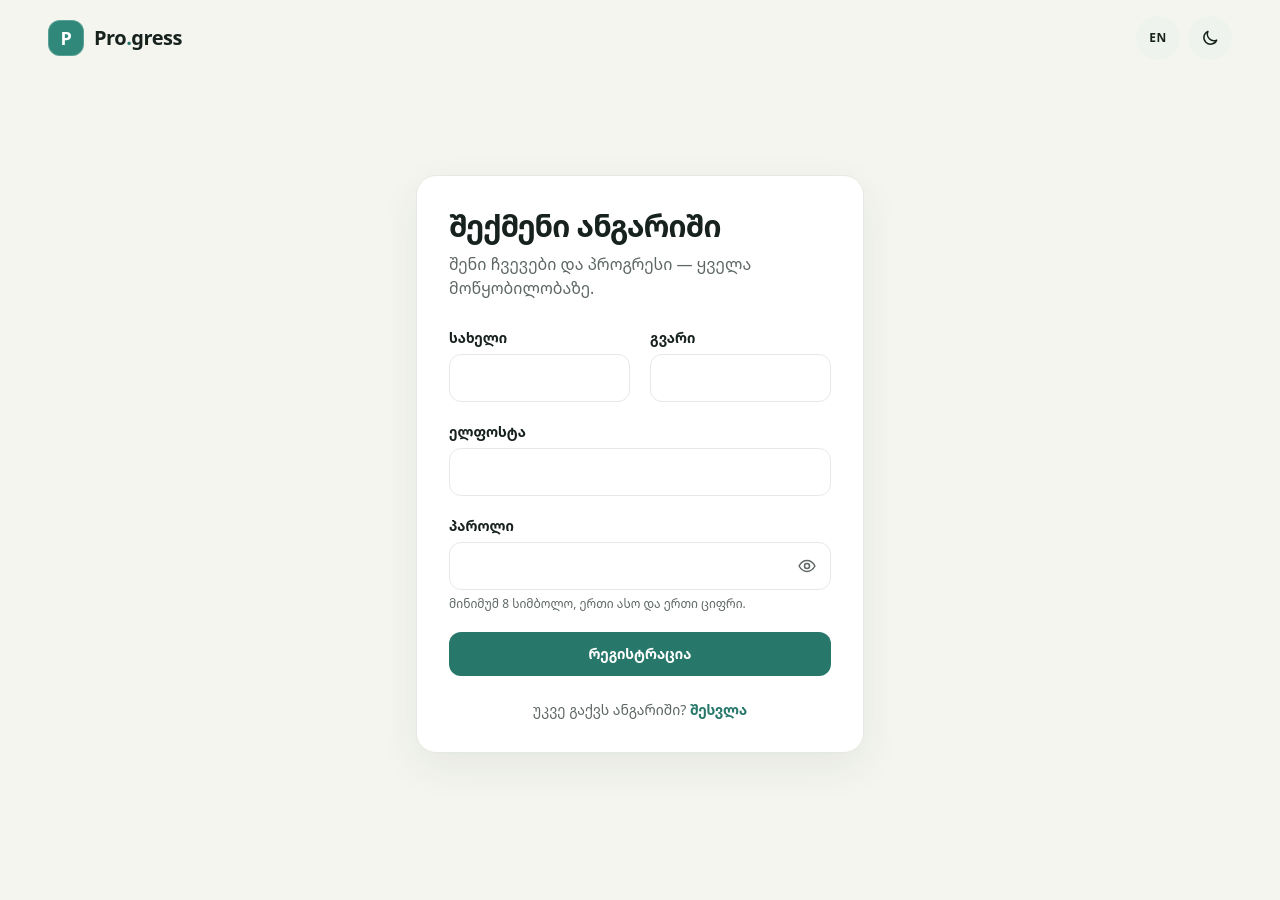
registration (US-1) › points to sign-in when the email is taken
Expected: the heading "შექმენი ანგარიში" is shown, left=449, top=205, right=721, bottom=246
Type "A" into the field labelled "სახელი" at (540, 378), box left=449, top=354, right=630, bottom=402
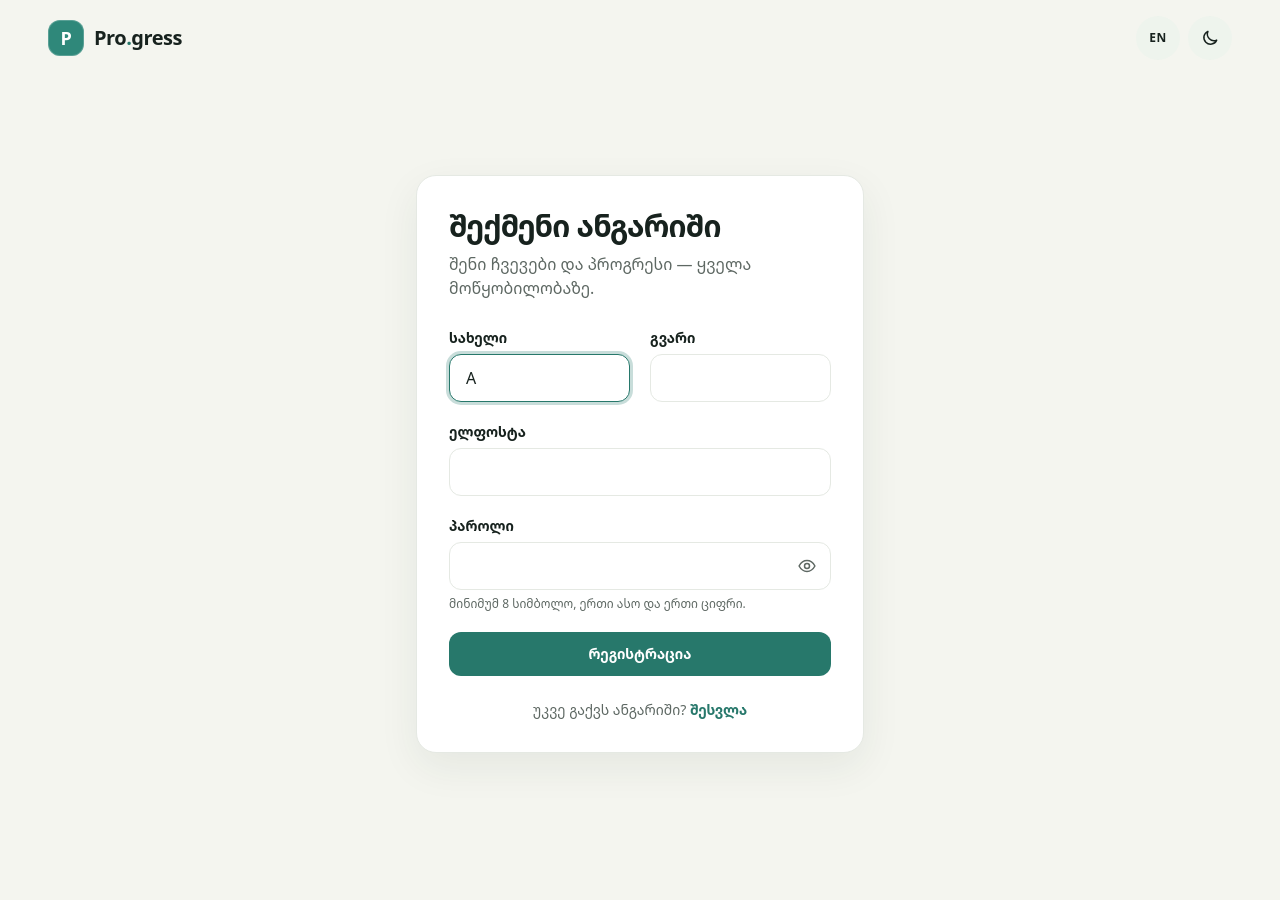
Type "B" into the field labelled "გვარი" at (740, 378), box left=650, top=354, right=831, bottom=402
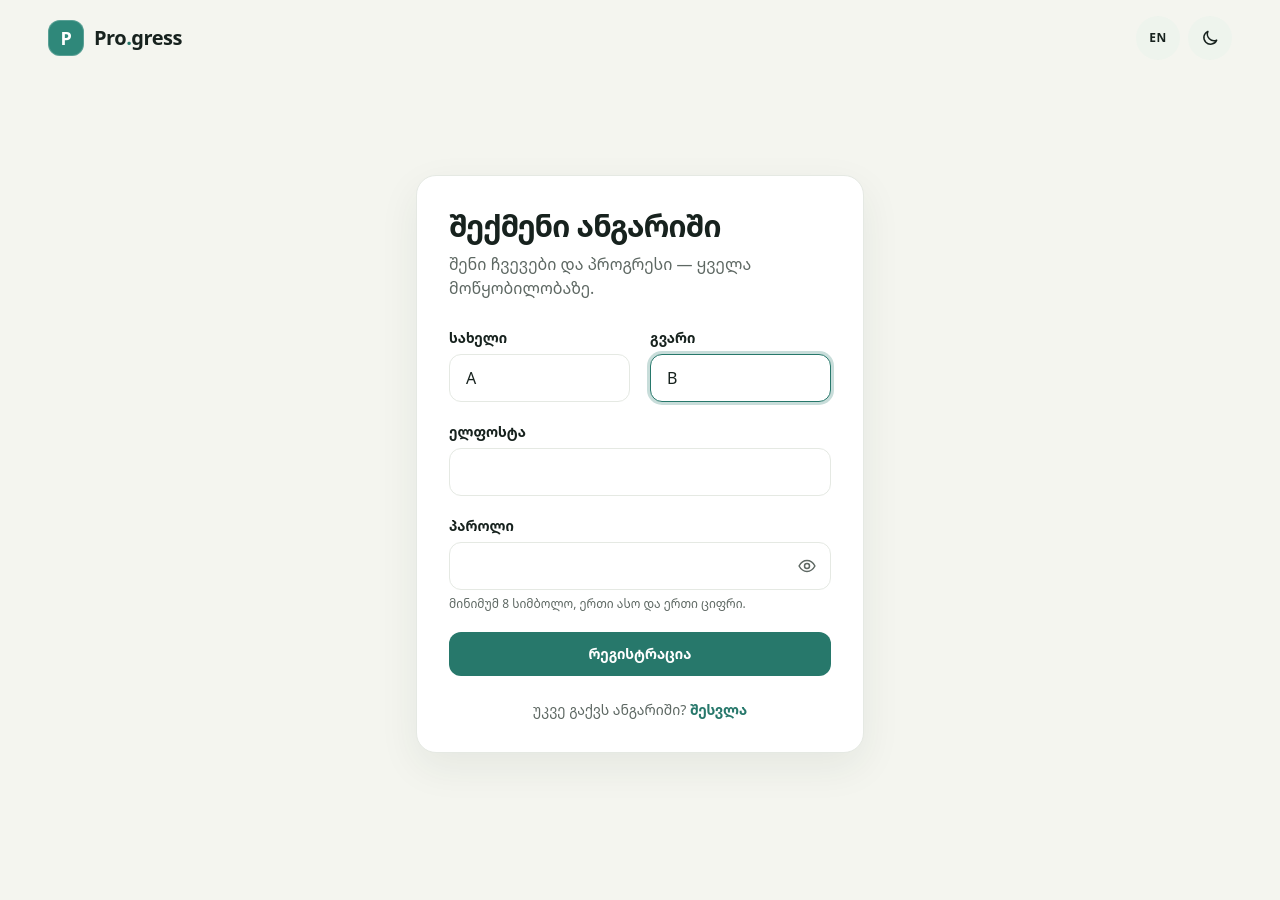
Type "taken@example.com" into the field labelled "ელფოსტა" at (640, 472), box left=449, top=448, right=831, bottom=496
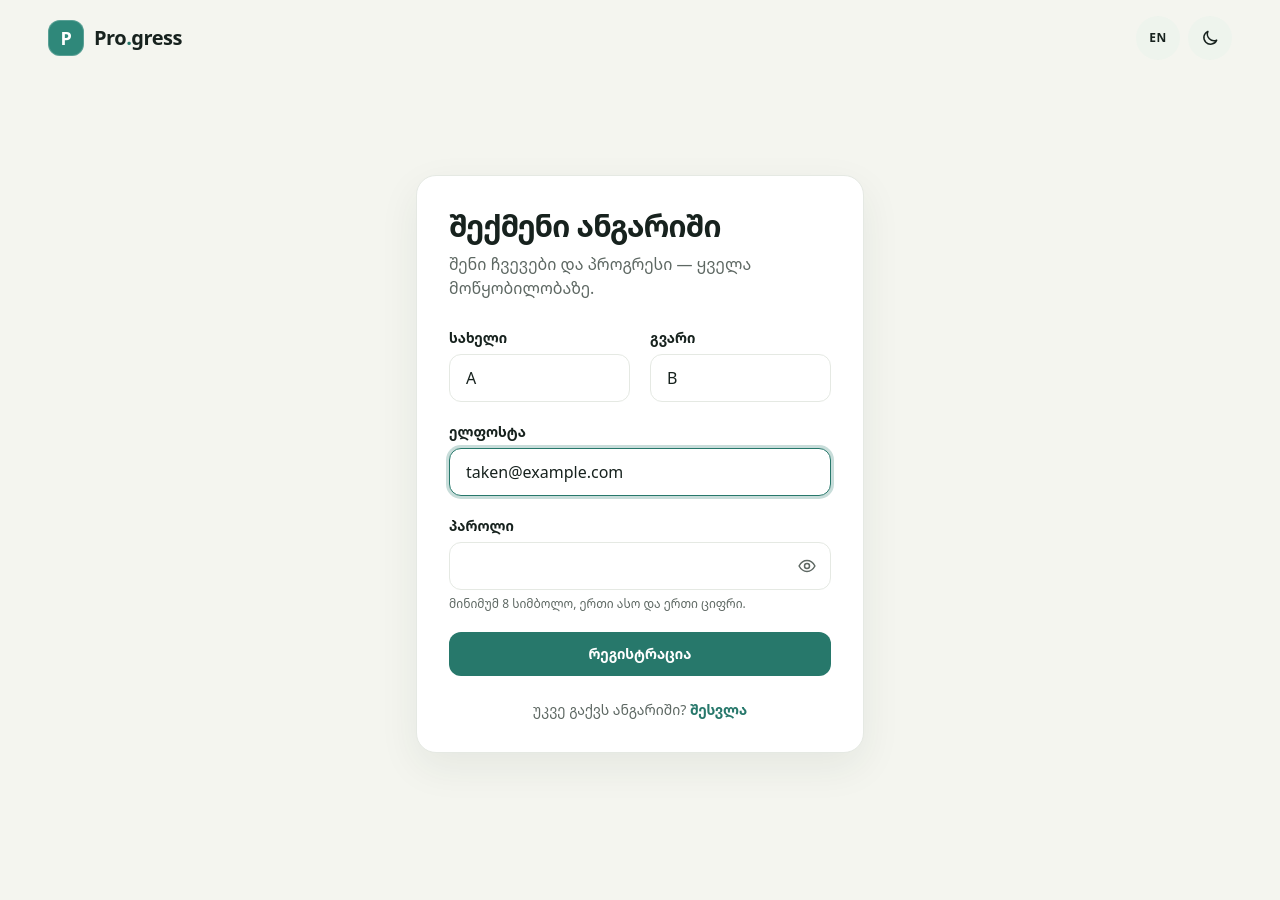
Type "secret123" into the password field labelled "პაროლი" at (640, 566), box left=449, top=542, right=831, bottom=590
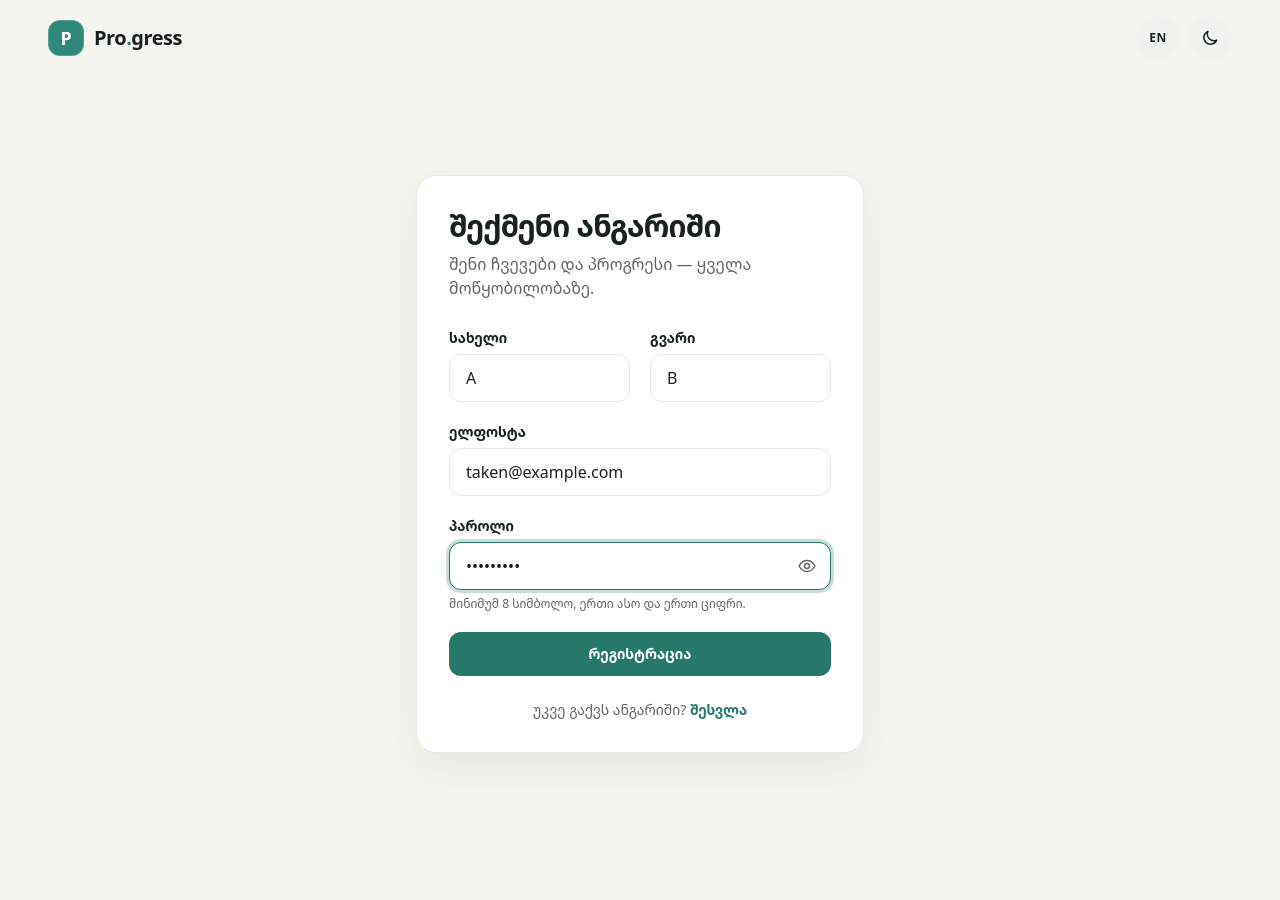
Click the button "რეგისტრაცია" at (640, 654), box left=449, top=632, right=831, bottom=676
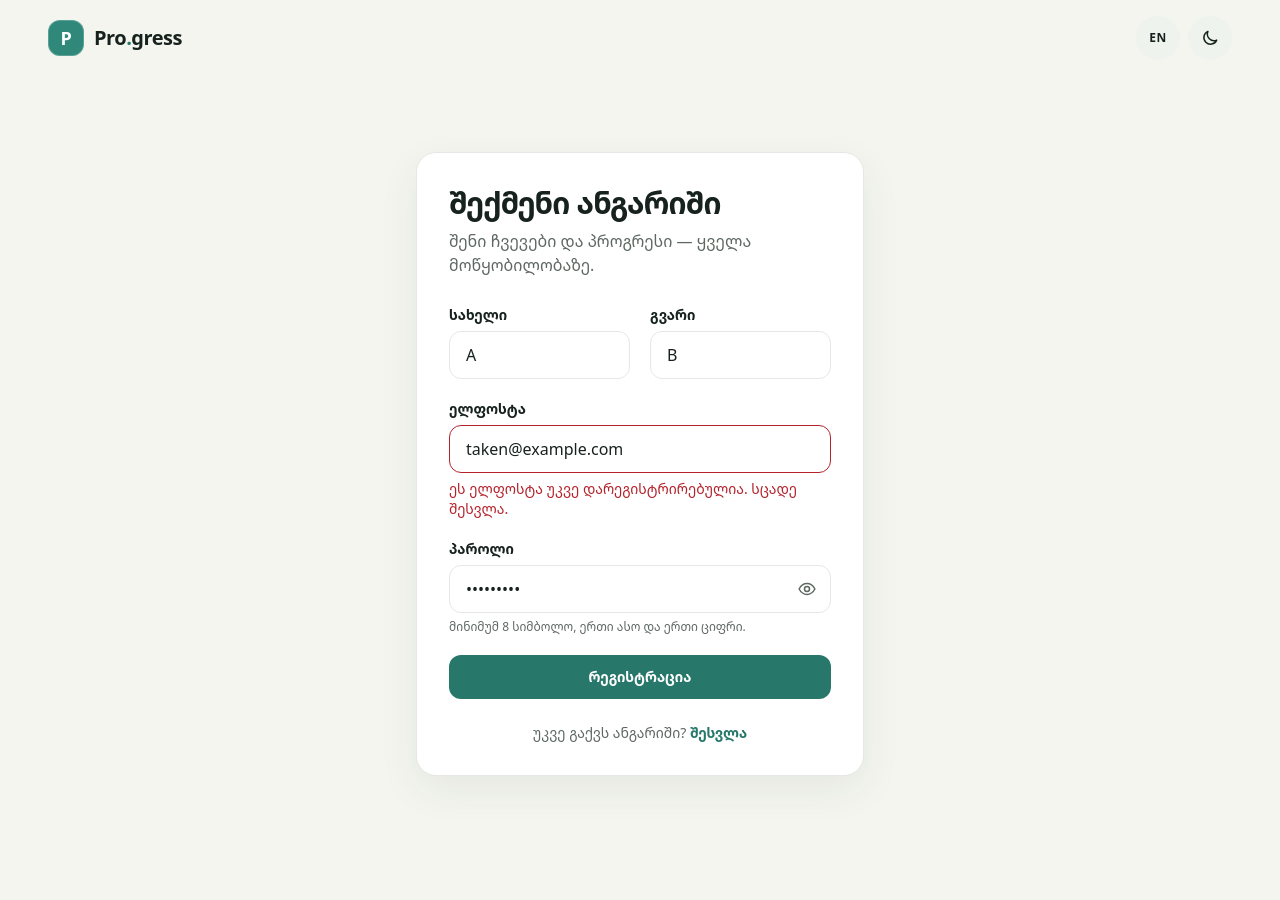
Now the text "ეს ელფოსტა უკვე დარეგისტრირებულია. სცადე შესვლა." is shown, box left=449, top=479, right=831, bottom=519
